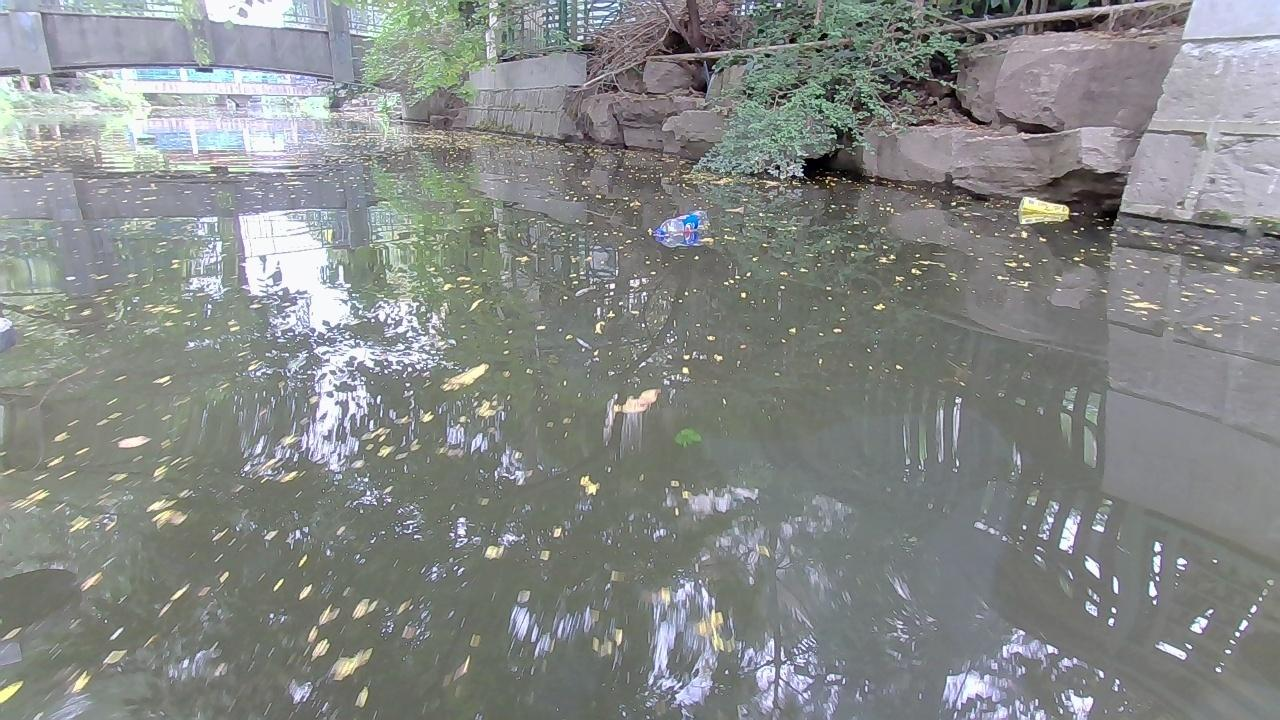bottle: (646, 209, 711, 237), (1017, 194, 1082, 216)
